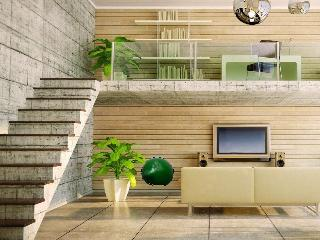lime: (136, 155, 180, 188)
